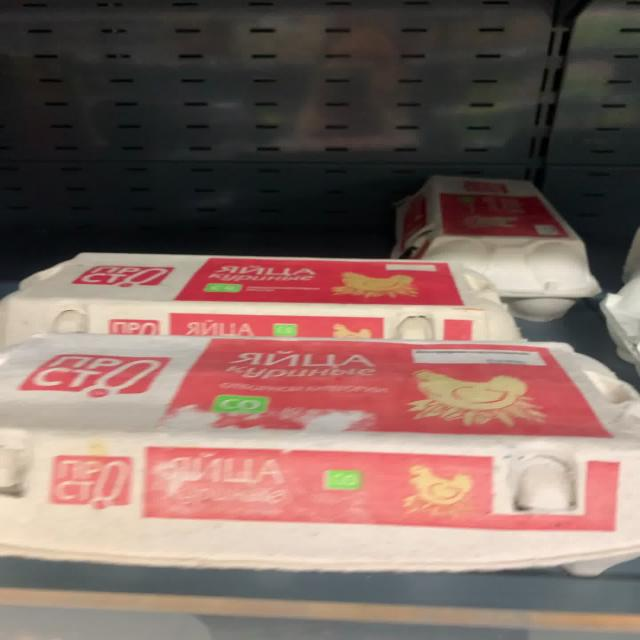egg box: (0, 333, 633, 576), (5, 252, 527, 344), (393, 168, 603, 313)
